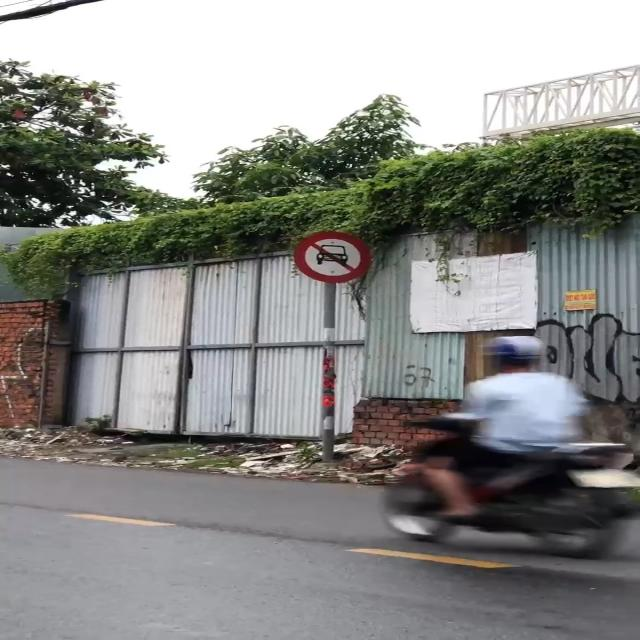Bien bao cam xe oto: (291, 230, 377, 285)
